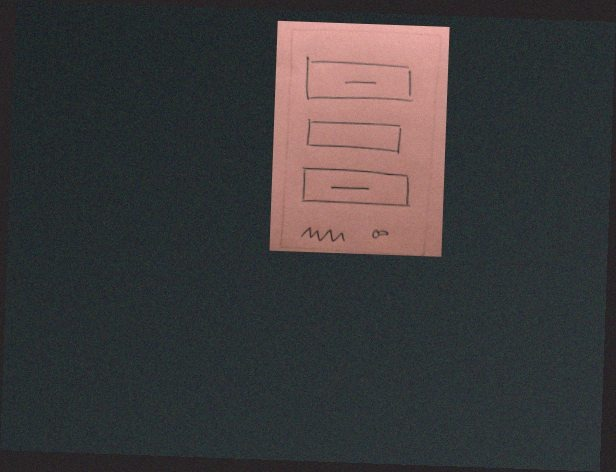button: (301, 54, 419, 106), (297, 164, 417, 211)
switch: (367, 226, 395, 242)
text: (295, 224, 353, 247)
text_input: (302, 117, 405, 157)
